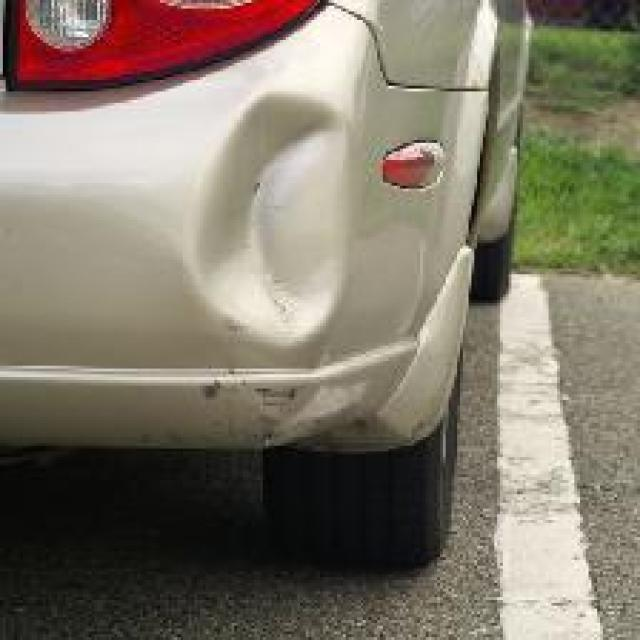bumper_dent_moderate: (197, 97, 391, 366)
